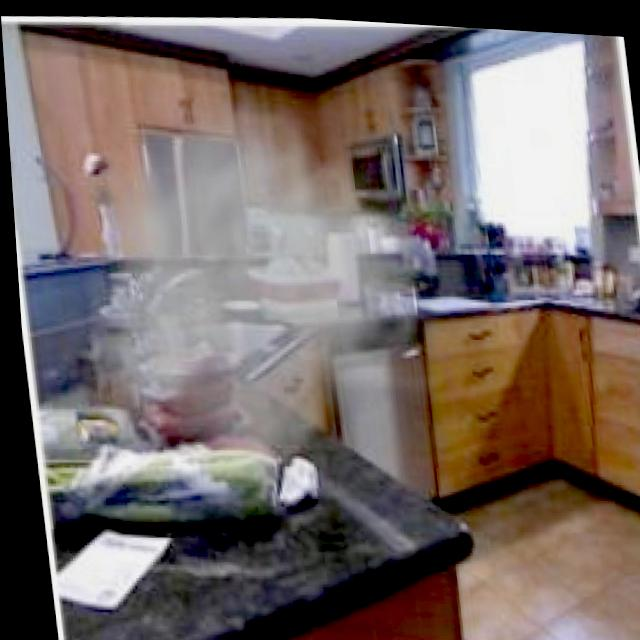Smoke: (58, 58, 481, 512)
